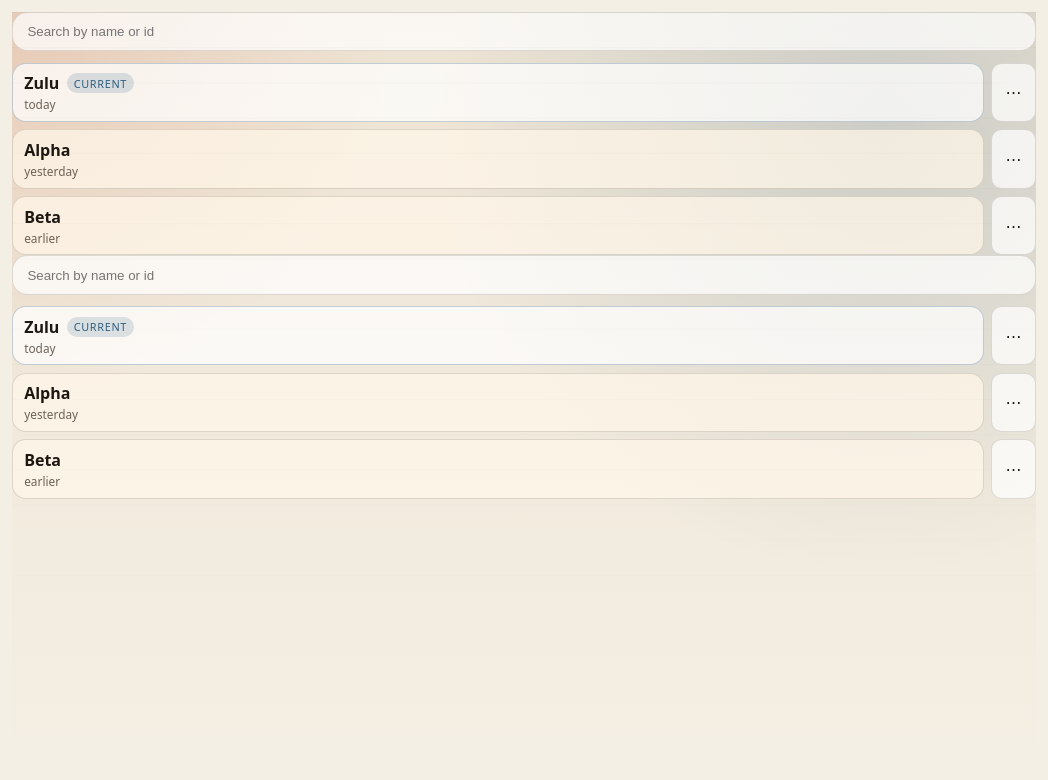
Test: WorkspacesPanel › describes the selected inline delete confirmation with instance-safe references
Click the button named "Actions for workspace Alpha" at (1013, 159), box [991,129,1036,189]
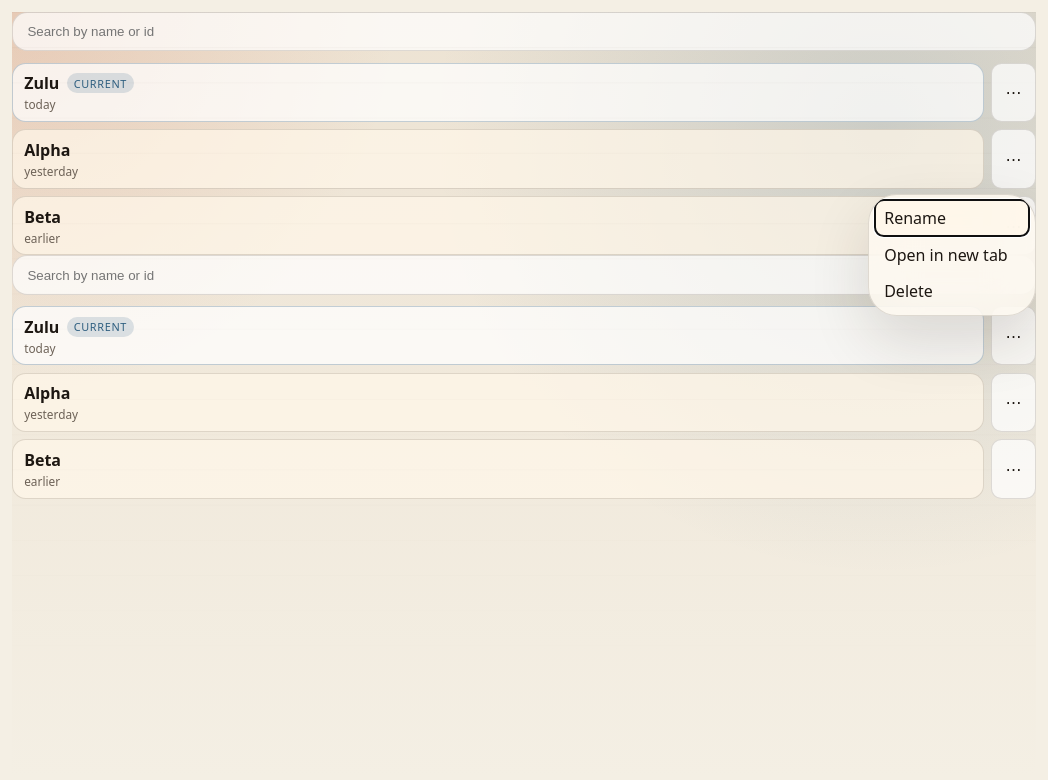
Click the menu item with aria-label "Delete workspace Alpha" at (952, 291), box [875,273,1029,309]
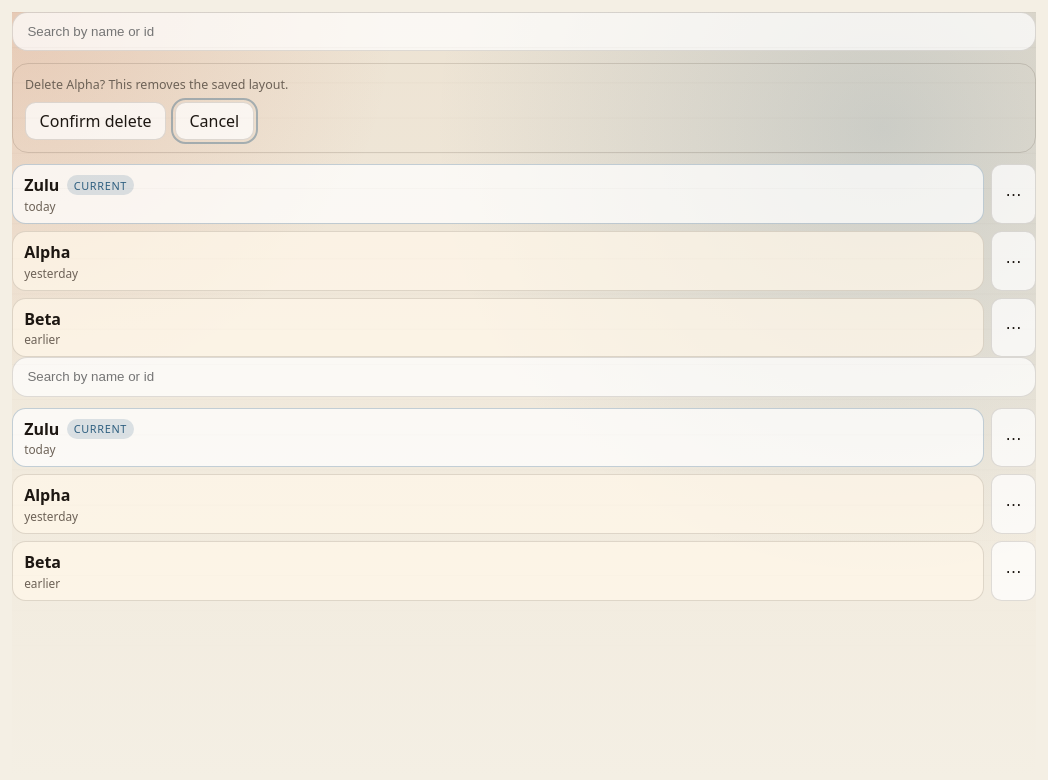
Expected: the number of buttons "Beta earlier" is 2, [12,298,984,357]; [12,541,984,601]
Click the button named "Actions for workspace Beta" at (1013, 571), box [991,541,1036,601]
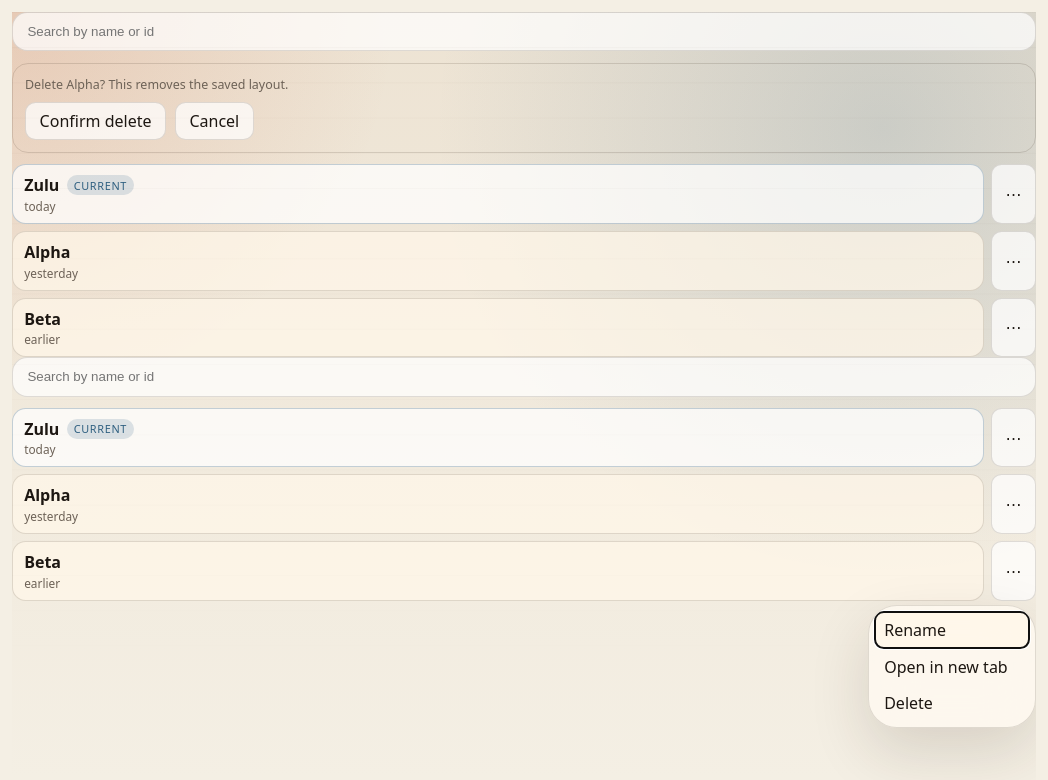
Click the menu item with aria-label "Delete workspace Beta" at (952, 703), box [875,685,1029,721]
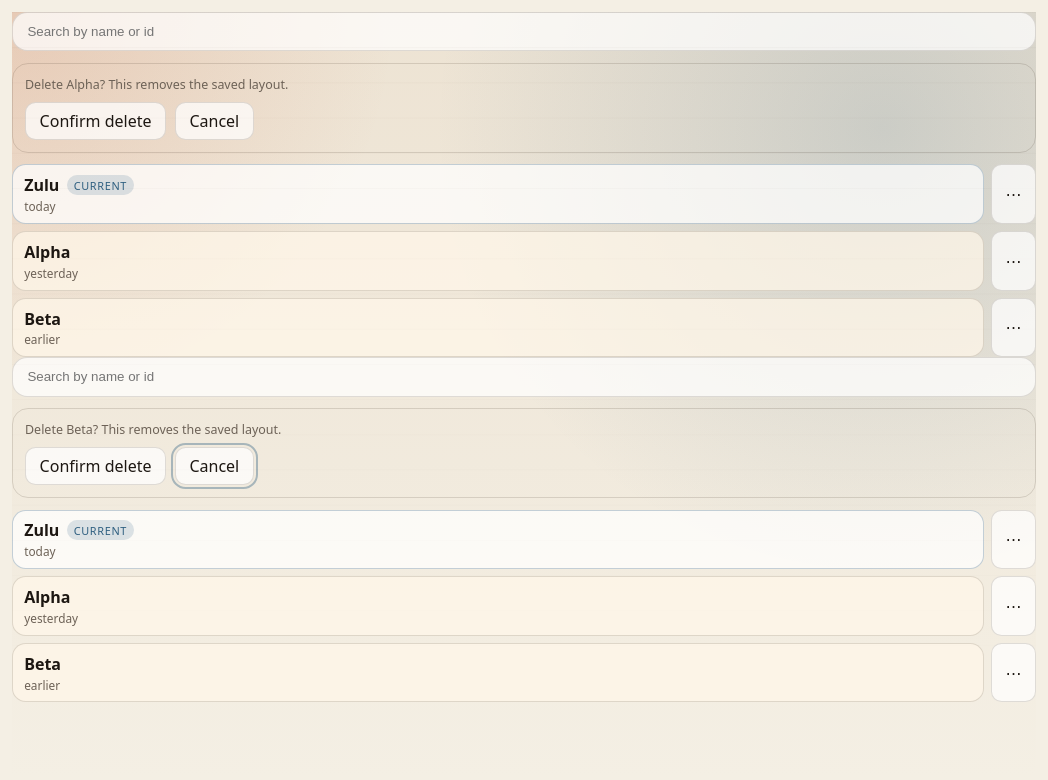
Now the text "Delete Alpha? This removes the saved layout." is shown, box [25,76,288,93]
Now the text "Delete Beta? This removes the saved layout." is shown, box [25,421,281,438]
